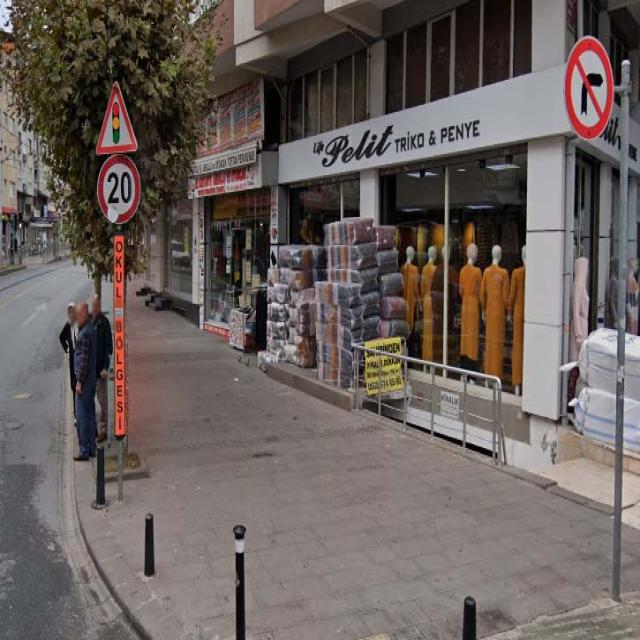20: (97, 154, 141, 223)
sagadonulmez: (565, 35, 613, 140)
